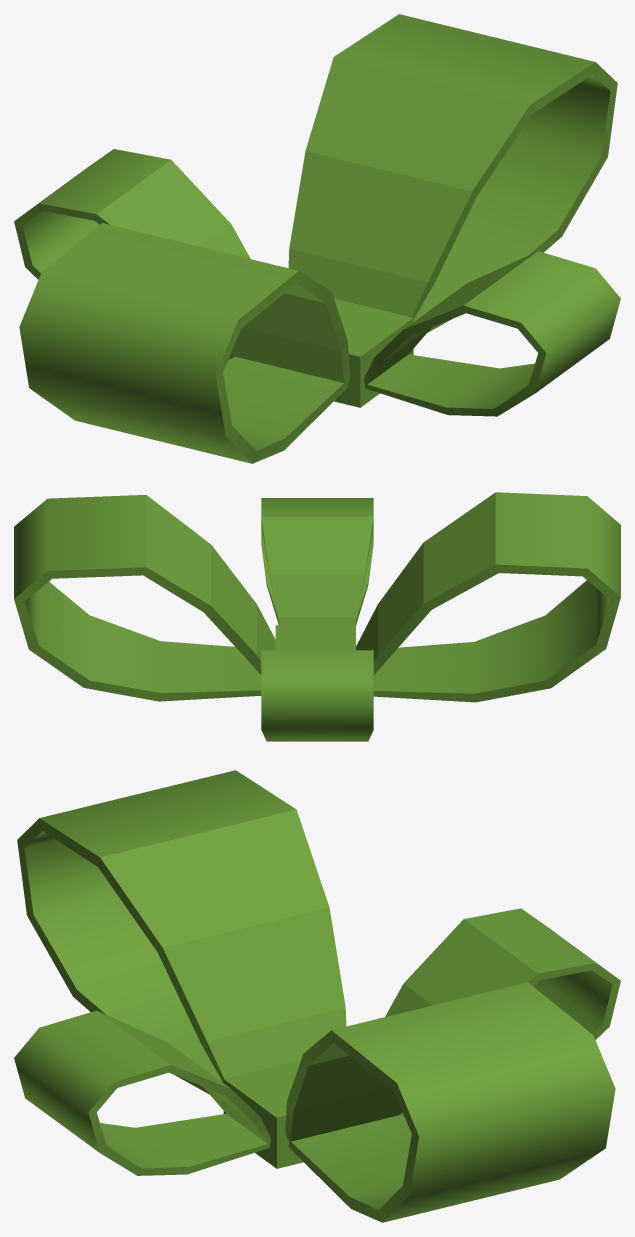
File: M_Bow_02.FBX
The picture shows the model from 3 angles, top to bottom: view 1: azimuth 30°, elevation 25°; view 2: azimuth 150°, elevation 25°; view 3: azimuth 270°, elevation 25°; orthographic projection. The views are drawn at different scales.
Parts seen in each view (by area): view 1: Box012; view 2: Box012; view 3: Box012.
Part boxes in pixels (x1=…): Box012: x1=14, y1=14, x2=620, y2=463; Box012: x1=14, y1=492, x2=620, y2=741; Box012: x1=14, y1=770, x2=620, y2=1222.
Bounding box in the file's own units: 37.79 × 10.94 × 28.33.
Materials: 1 (1 with a texture image).
